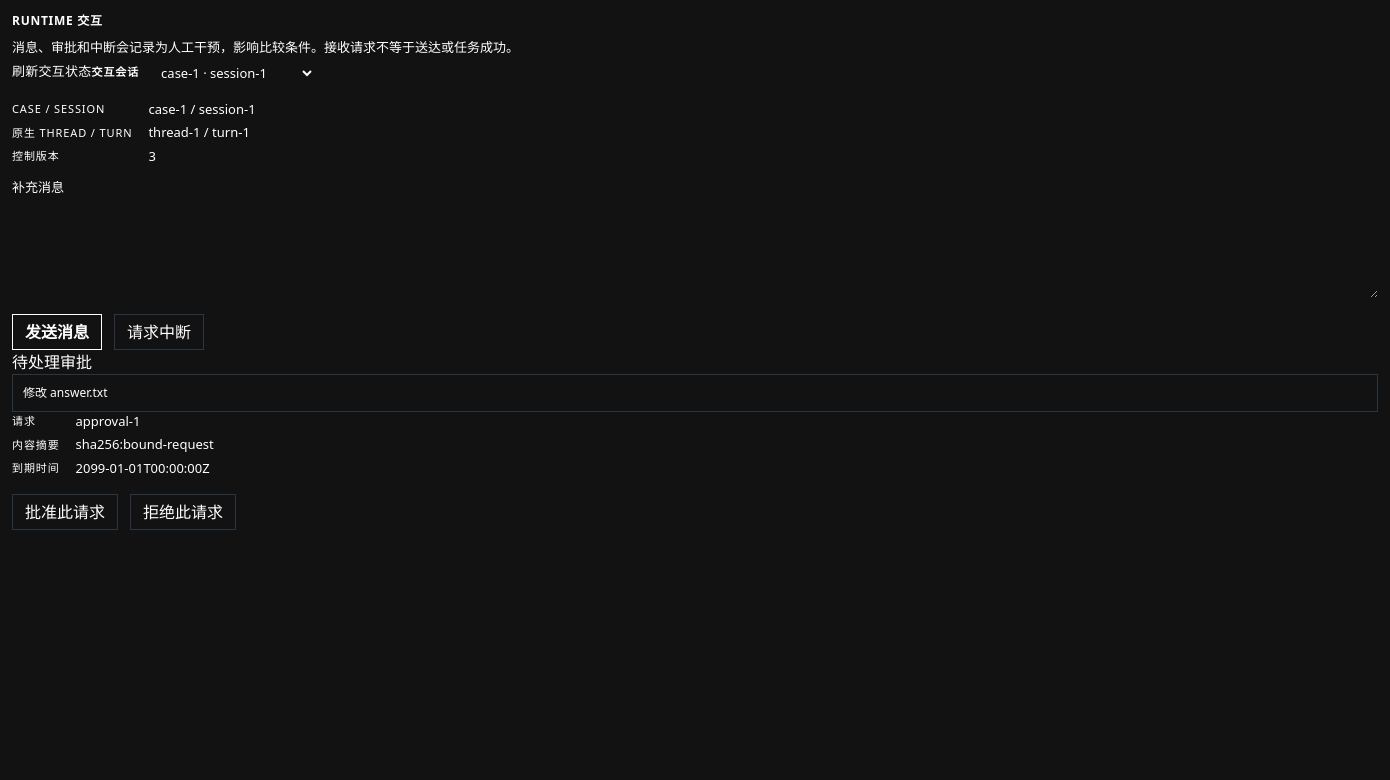
it: 消息绑定正在显示的会话和控制版本，202 只显示排队
Type "请补充测试" into the text box labelled "补充消息" at point(695, 250), box [12,202,1378,298]
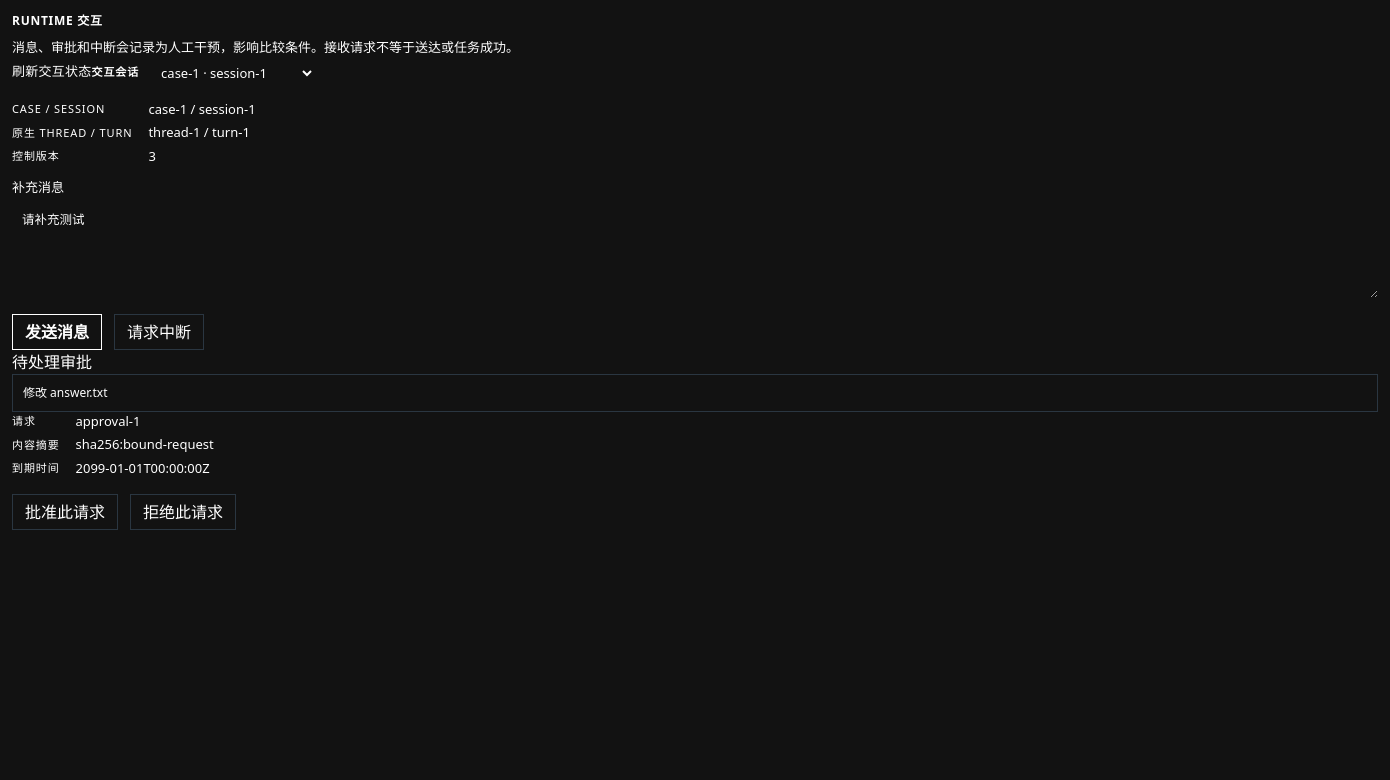
Click the button "发送消息" at point(57, 332), box [12,314,102,350]
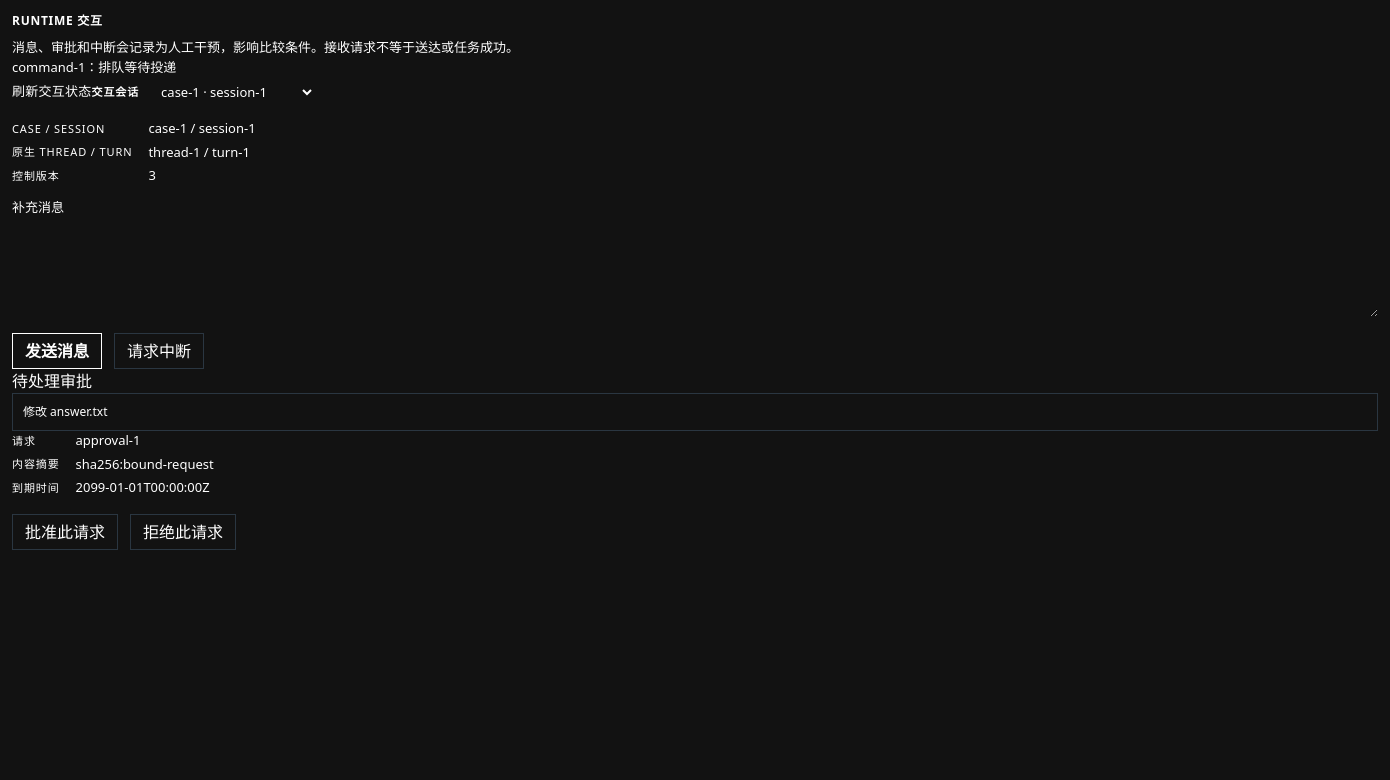
Expected: the text "command-1：排队等待投递" is shown, [12,58,176,76]
